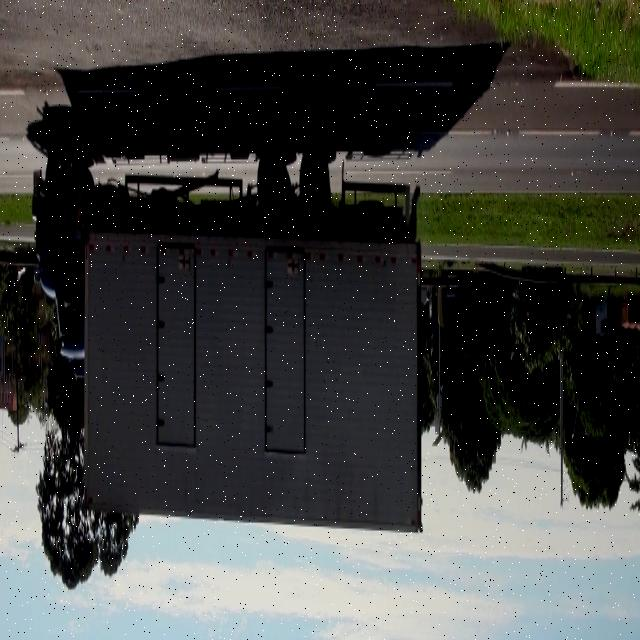-axle: (297, 142, 330, 226), (256, 141, 288, 222), (41, 139, 73, 218)
